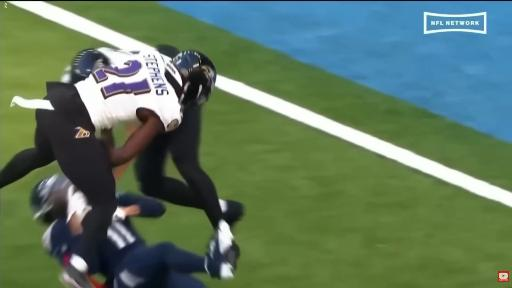Helmet: (172, 50, 216, 106), (30, 175, 71, 223), (71, 49, 109, 83)
Jersey: (75, 48, 182, 130), (89, 218, 145, 281)
Player: (0, 51, 215, 287), (136, 102, 243, 227), (90, 194, 232, 287)
